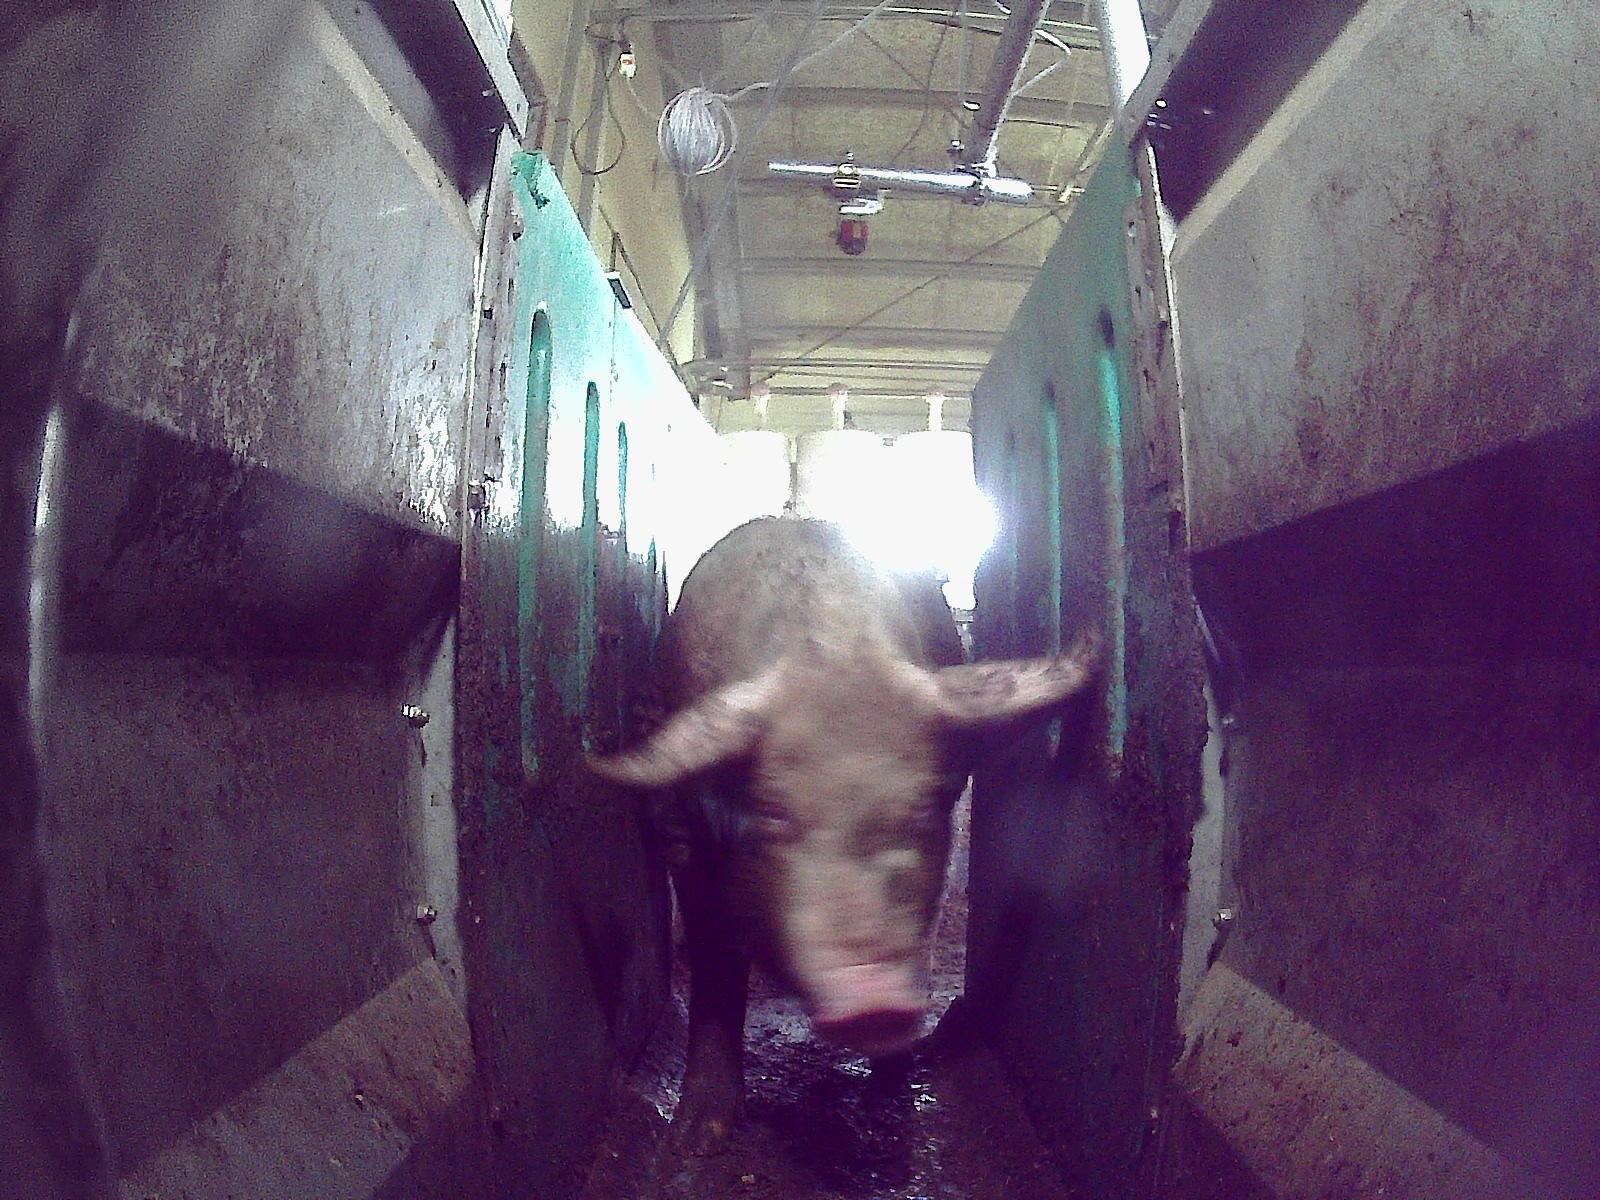Face: (715, 649, 955, 1055)
